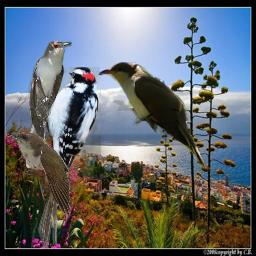Cuckoo: (96, 62, 204, 169), (6, 131, 70, 248), (24, 39, 72, 169)
Woodpecker: (39, 67, 102, 192)
